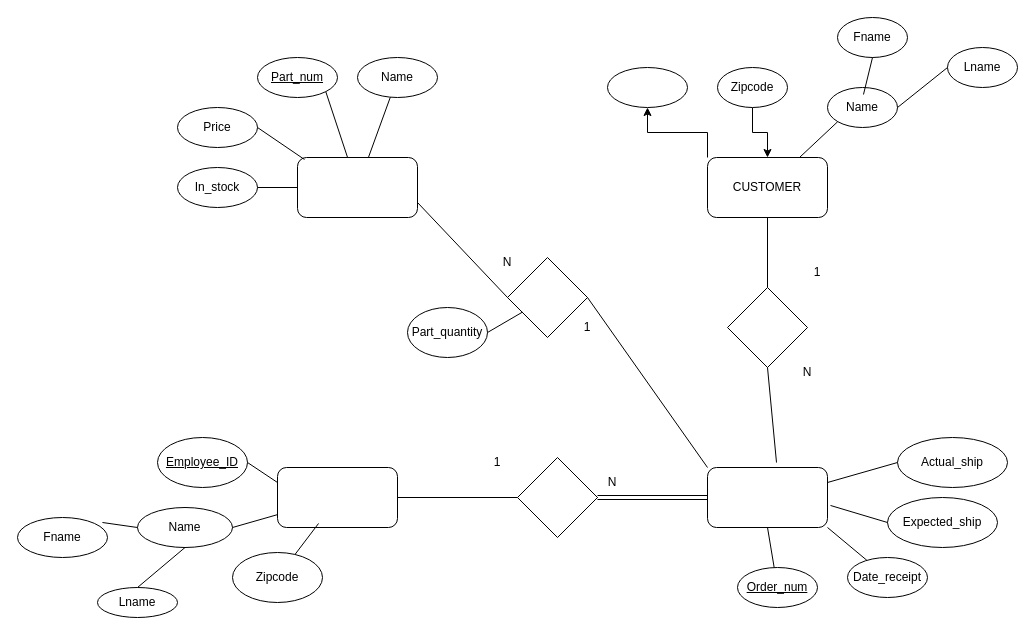
Some shapes in this 1035 by 635 pixel diagram are drawn without their labels. Here are the shapes that lost their labels. From the top down, the box of each, then its label:
(606, 66, 688, 108): Customer_id
(296, 156, 418, 218): PART
(506, 256, 588, 338): CONTAINS
(726, 286, 808, 368): PLACES
(276, 466, 398, 528): EMPLOYEE
(516, 456, 598, 538): TAKES
(706, 466, 828, 528): ORDER
